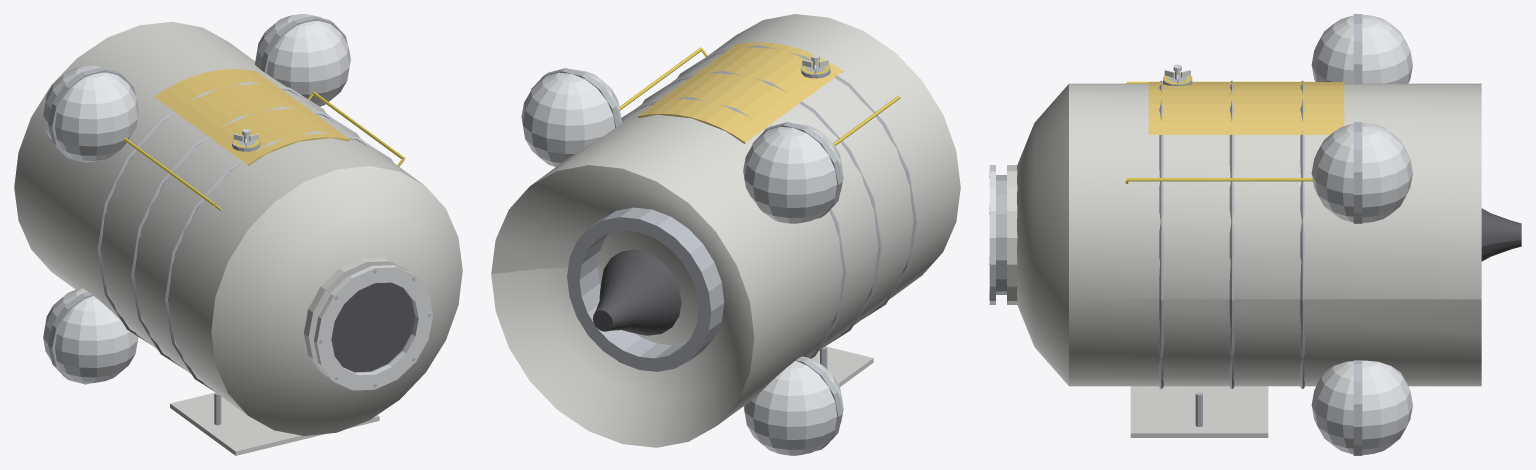
Rendered from orbital-station-and-docking-bays-service-module-tankag-8e08603d__24536.glb.
The picture shows the model from 3 angles, left to right: view 1: azimuth 30°, elevation 25°; view 2: azimuth 150°, elevation 25°; view 3: azimuth 270°, elevation 25°; orthographic projection. The views are drawn at different scales.
Parts seen in each view (by area): view 1: service-module-tankage; view 2: service-module-tankage; view 3: service-module-tankage.
Part boxes in pixels (left/top/right/bottom): service-module-tankage: left=14, top=14, right=462, bottom=455; service-module-tankage: left=491, top=14, right=960, bottom=455; service-module-tankage: left=989, top=14, right=1521, bottom=455.
Bounding box in the file's own units: 4.98 × 5 × 7.35.
